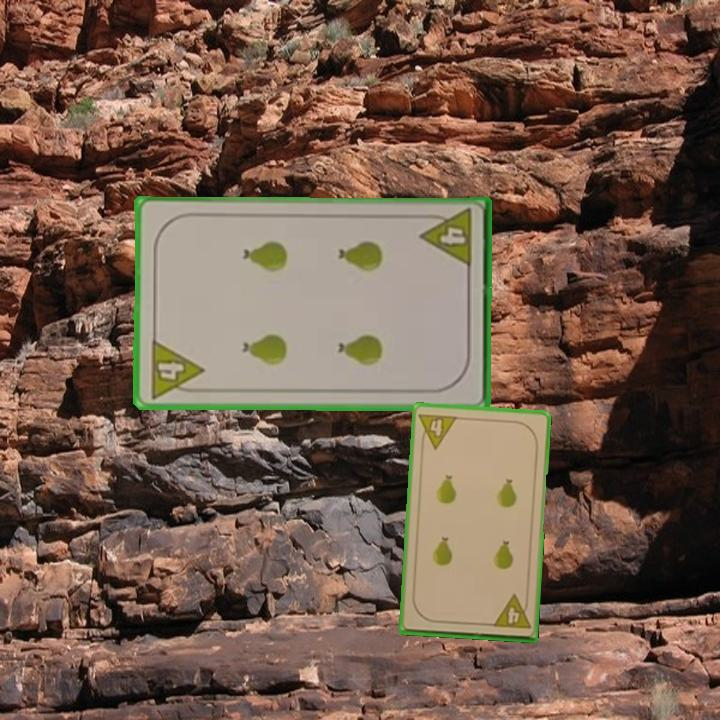4p: (146, 336, 206, 401), (418, 205, 475, 271), (415, 409, 460, 452), (489, 591, 533, 632)
